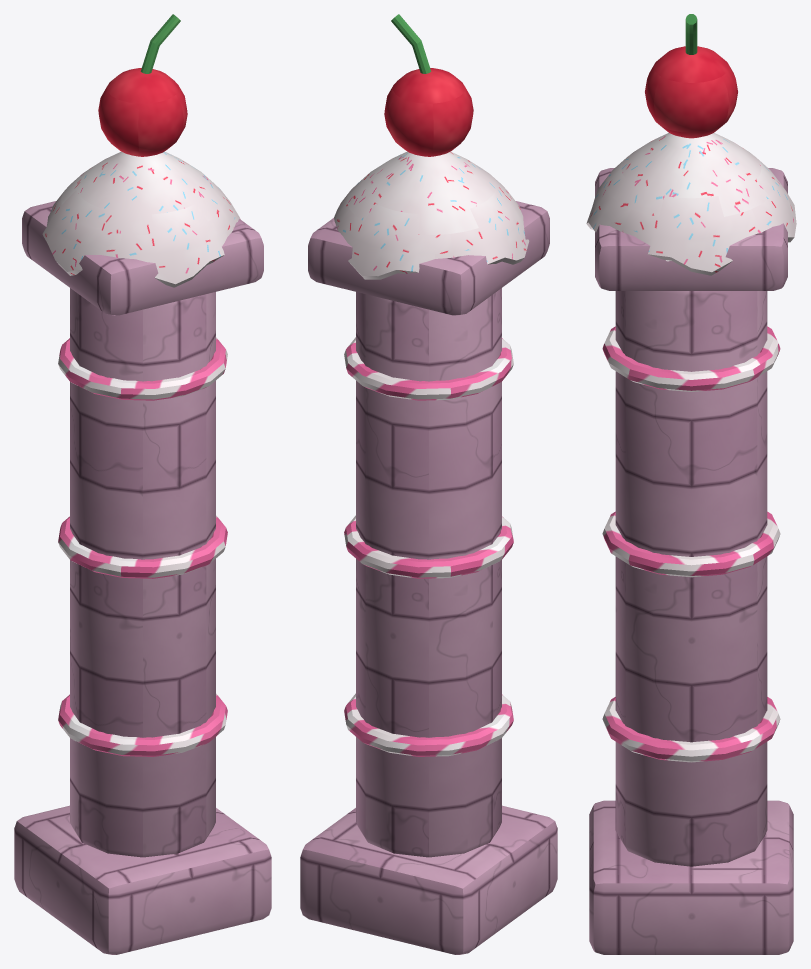
File: GIN_CherryPillar.fbx
3 renders of one model, left to right at view 1: azimuth 30°, elevation 25°; view 2: azimuth 150°, elevation 25°; view 3: azimuth 270°, elevation 25°, orthographic. The views are drawn at different scales.
Parts seen in each view (by area): view 1: GIN_CherryPillar; view 2: GIN_CherryPillar; view 3: GIN_CherryPillar.
Part boxes in pixels (box(x1,y1,x2,y2)): GIN_CherryPillar: box(14, 14, 271, 954); GIN_CherryPillar: box(300, 14, 557, 954); GIN_CherryPillar: box(586, 14, 796, 954).
Size of the model in its own units: 0.72 by 3.47 by 0.72.
